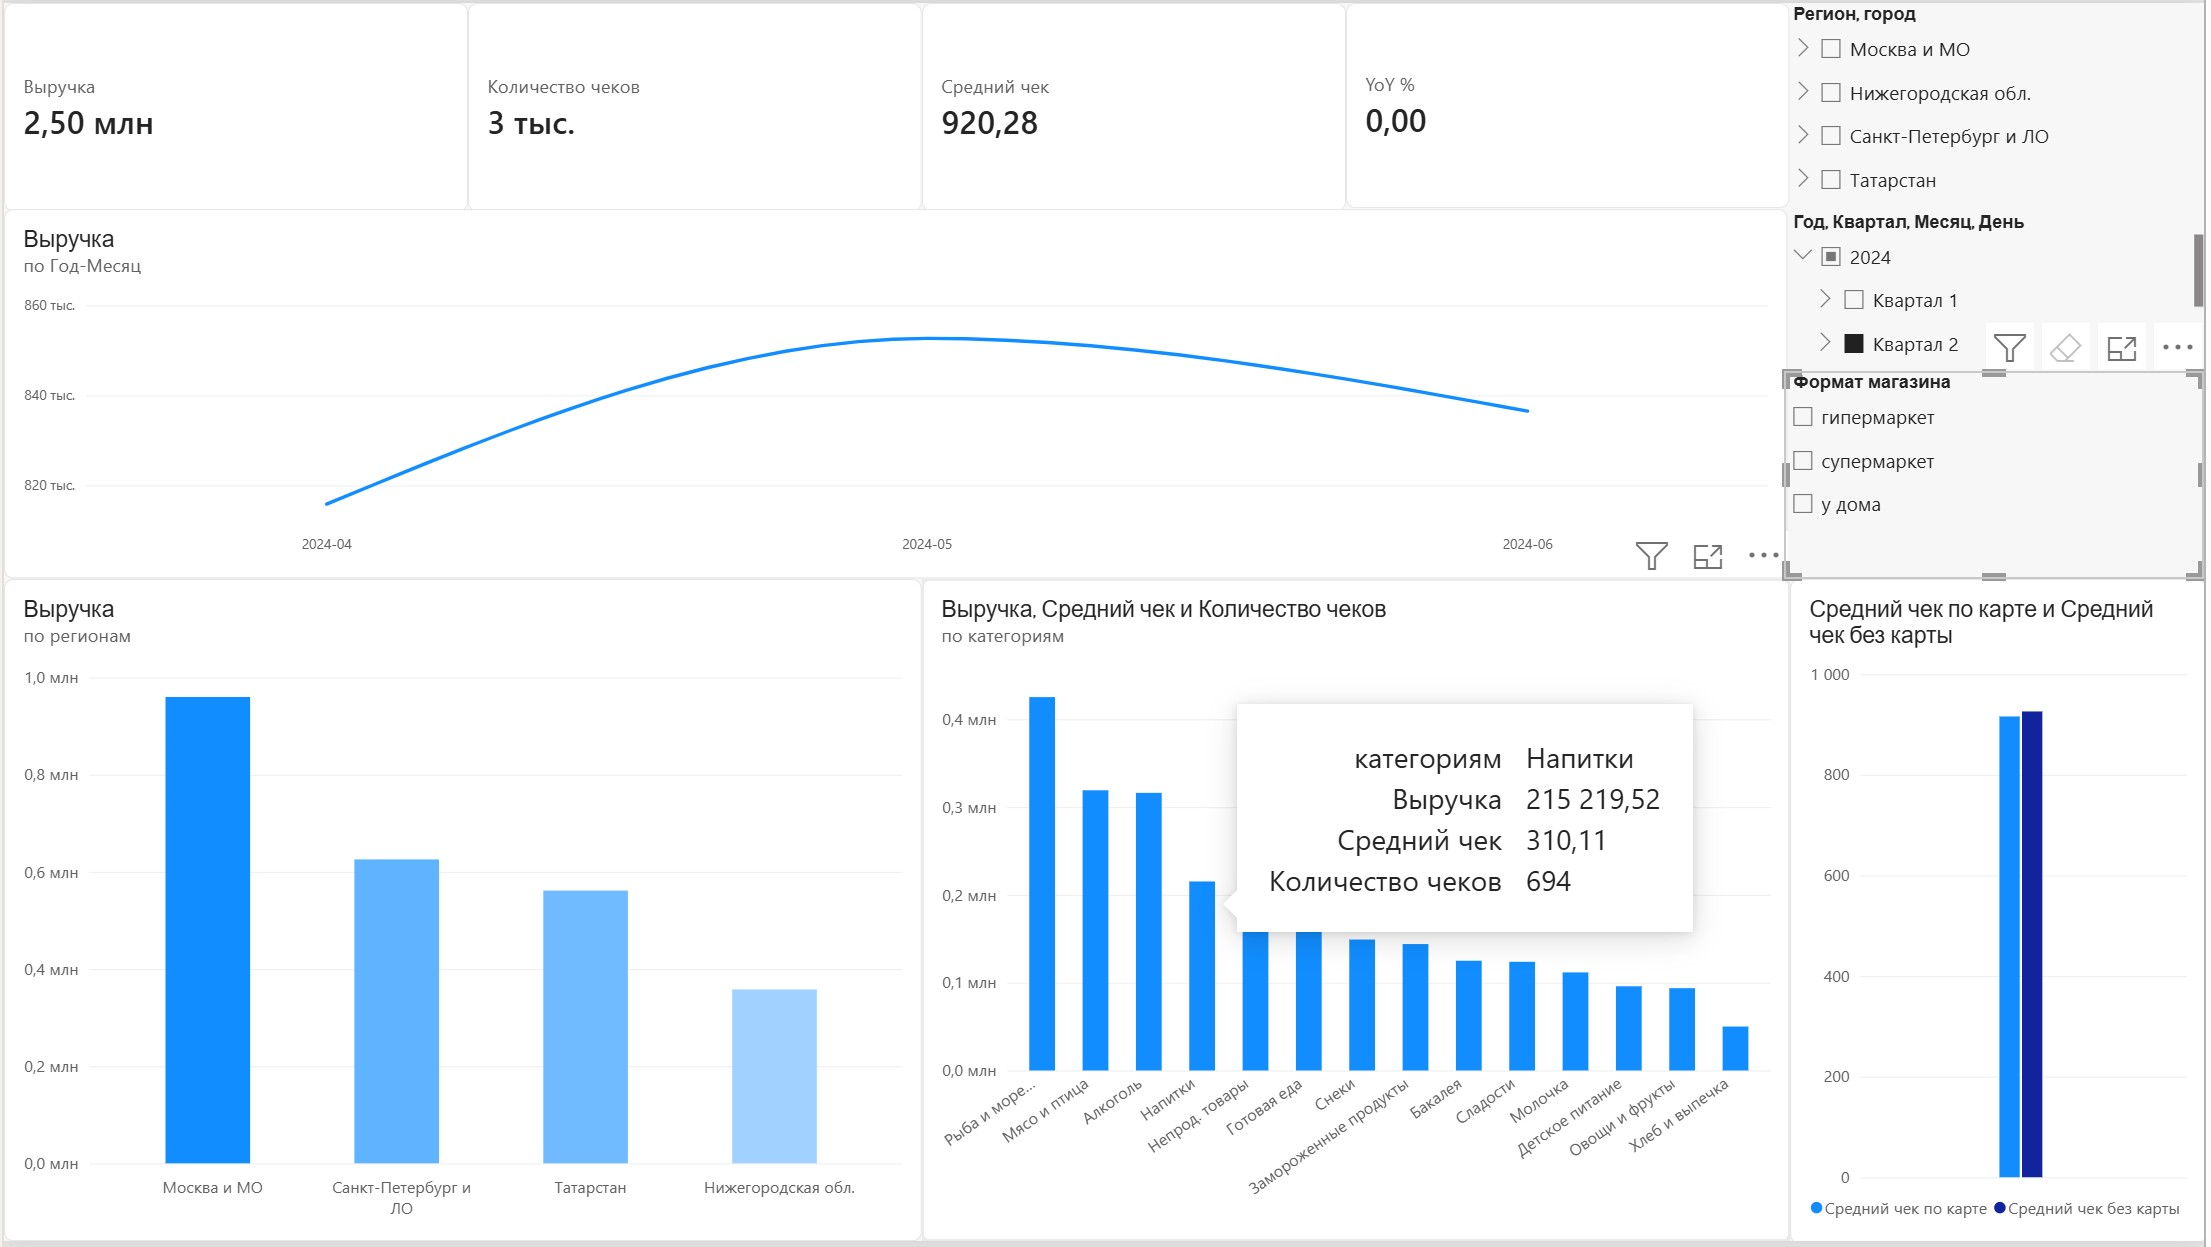

This screenshot's page, from the dashboard's own definition file:
{"tool":"powerbi","page":{"name":"Страница 1","canvas":[1920,1080],"ordinal":0},"visuals":[{"type":"cardVisual","fields":{"Data":["fact_sales.Выручка"]},"box":[0,0,405,182],"z":0},{"type":"cardVisual","fields":{"Data":["fact_sales.Количество чеков"]},"box":[405,0,396,182],"z":1},{"type":"cardVisual","fields":{"Data":["fact_sales.Средний чек"]},"box":[801,0,370,182],"z":2},{"type":"cardVisual","fields":{"Data":["fact_sales.YoY %"]},"box":[1171,0,387.5,179.7],"z":3},{"type":"lineChart","fields":{"Category":["dim_calendar.Год-Месяц"],"Y":["fact_sales.Выручка"]},"box":[0,179.7,1556.3,322.5],"z":4},{"type":"clusteredColumnChart","fields":{"Category":["dim_stores.регион","dim_stores.город","dim_stores.наименование_магазина"],"Y":["fact_sales.Выручка"]},"box":[0,502.2,800.9,577.9],"z":5},{"type":"columnChart","fields":{"Category":["dim_products.категория"],"Y":["fact_sales.Выручка"]},"box":[800.9,502.2,757.6,577.9],"z":8},{"type":"clusteredColumnChart","fields":{"Y":["fact_sales.Средний чек по карте","fact_sales.Средний чек без карты"]},"box":[1558.5,502.2,363.7,580.1],"z":9},{"type":"slicer","fields":{"Values":["dim_stores.регион","dim_stores.город"]},"box":[1554.2,0,365.8,181.8],"z":10},{"type":"slicer","fields":{"Values":["fact_sales.дата_время.Variation.Иерархия дат.Год","fact_sales.дата_время.Variation.Иерархия дат.Квартал","fact_sales.дата_время.Variation.Иерархия дат.Месяц","fact_sales.дата_время.Variation.Иерархия дат.День"]},"box":[1554.2,181.8,365.8,140.7],"z":11},{"type":"slicer","fields":{"Values":["dim_stores.формат_магазина"]},"box":[1554.2,320.4,365.8,181.8],"z":12}]}

Visuals, with their boxes on the page's 1920x1080 design canvas (x1, y1, x2, y2). These are canvas units, not pixel positions in the 2211x1247 screenshot, which may show the page scaled, cropped or inside an application window:
cardVisual - fact_sales.Выручка: locate(0, 0, 405, 182)
cardVisual - fact_sales.Количество чеков: locate(405, 0, 801, 182)
cardVisual - fact_sales.Средний чек: locate(801, 0, 1171, 182)
cardVisual - fact_sales.YoY %: locate(1171, 0, 1558, 180)
lineChart - dim_calendar.Год-Месяц x fact_sales.Выручка: locate(0, 180, 1556, 502)
clusteredColumnChart - dim_stores.регион x dim_stores.город: locate(0, 502, 801, 1080)
columnChart - dim_products.категория x fact_sales.Выручка: locate(801, 502, 1558, 1080)
clusteredColumnChart - fact_sales.Средний чек по карте x fact_sales.Средний чек без карты: locate(1558, 502, 1922, 1082)
slicer - dim_stores.регион x dim_stores.город: locate(1554, 0, 1920, 182)
slicer - fact_sales.дата_время.Variation.Иерархия дат.Год x fact_sales.дата_время.Variation.Иерархия дат.Квартал: locate(1554, 182, 1920, 322)
slicer - dim_stores.формат_магазина: locate(1554, 320, 1920, 502)
